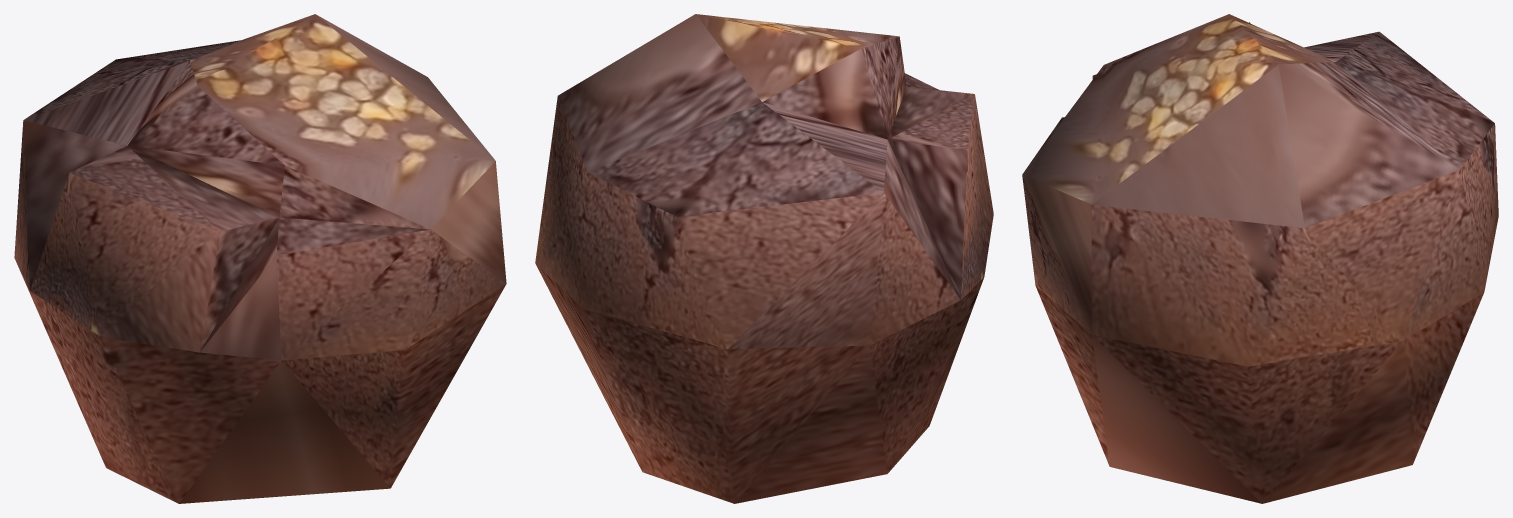
Rendered from muffin_60.obj.
3 views of the same model, side by side, from view 1: azimuth 30°, elevation 25°; view 2: azimuth 150°, elevation 25°; view 3: azimuth 270°, elevation 25° (orthographic).
Size of the model in its own units: 14.03 by 13.09 by 13.81.
1 material, 1 textured.
